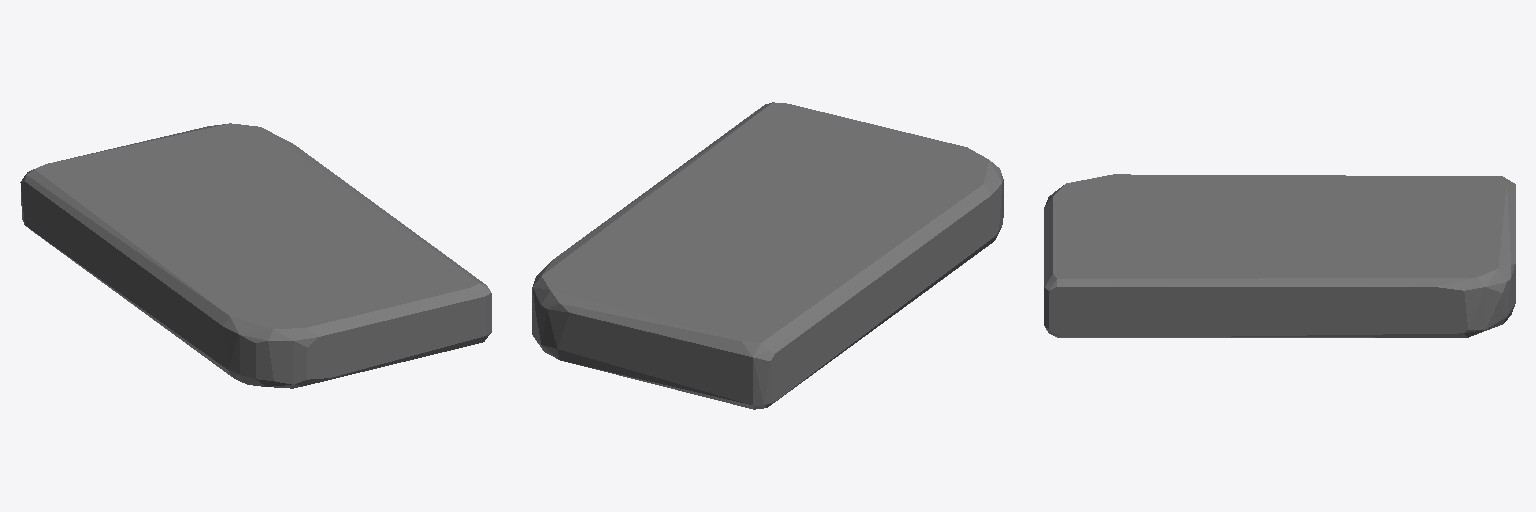
robot.urdf — cellphone_039:
<?xml version="1.0" ?>
<robot name="cellphone_039">
  <material name="color">
    <color rgba=".5 .5 .5 1"/>
  </material>

  <link name="base_link">
    <contact>
      <lateral_friction value="1.0"/>
      <rolling_friction value="0.001"/>
      <spinning_friction value="0.001"/>
      <inertia_scaling value="1.0"/>
    </contact>
    <inertial>
      <origin rpy="0 0 0" xyz="7.04298e-06 -6.40106e-05 -0.000244556"/>
       <mass value="0.1"/>
       <inertia ixx="1" ixy="0" ixz="0" iyy="1" iyz="0" izz="1"/>
    </inertial>

    <visual>
      <origin rpy="0 0 0" xyz="0 0 0"/>
      <geometry>
        <mesh filename="cellphone_039_vhacd_0_of_1.obj" scale="1 1 1"/>
      </geometry>
      <material name="color"/>
    </visual>

    <collision>
      <origin rpy="0 0 0" xyz="0 0 0"/>
      <geometry>
        <mesh filename="cellphone_039_vhacd_0_of_1.obj" scale="1 1 1"/>
      </geometry>
    </collision>

  </link>
</robot>

--- Render facts (derived) ---
3 views of the same robot in one strip: view 1: azimuth 30°, elevation 25°; view 2: azimuth 150°, elevation 25°; view 3: azimuth 270°, elevation 25° (orthographic).
Robot: cellphone_039 — 1 links, 0 joints (none); root link base_link; default pose: all joints at 0.
Links seen in each view (by area): view 1: base_link; view 2: base_link; view 3: base_link.
Link boxes in pixels (<box>): base_link: <box>20,123,491,388</box>; base_link: <box>532,102,1003,409</box>; base_link: <box>1044,174,1515,337</box>.
Bounding box of the posed robot: 0.0457 × 0.0811 × 0.0111 m (x, y, z).
1 mesh visuals loaded from 1 distinct referenced files (1 OBJ).